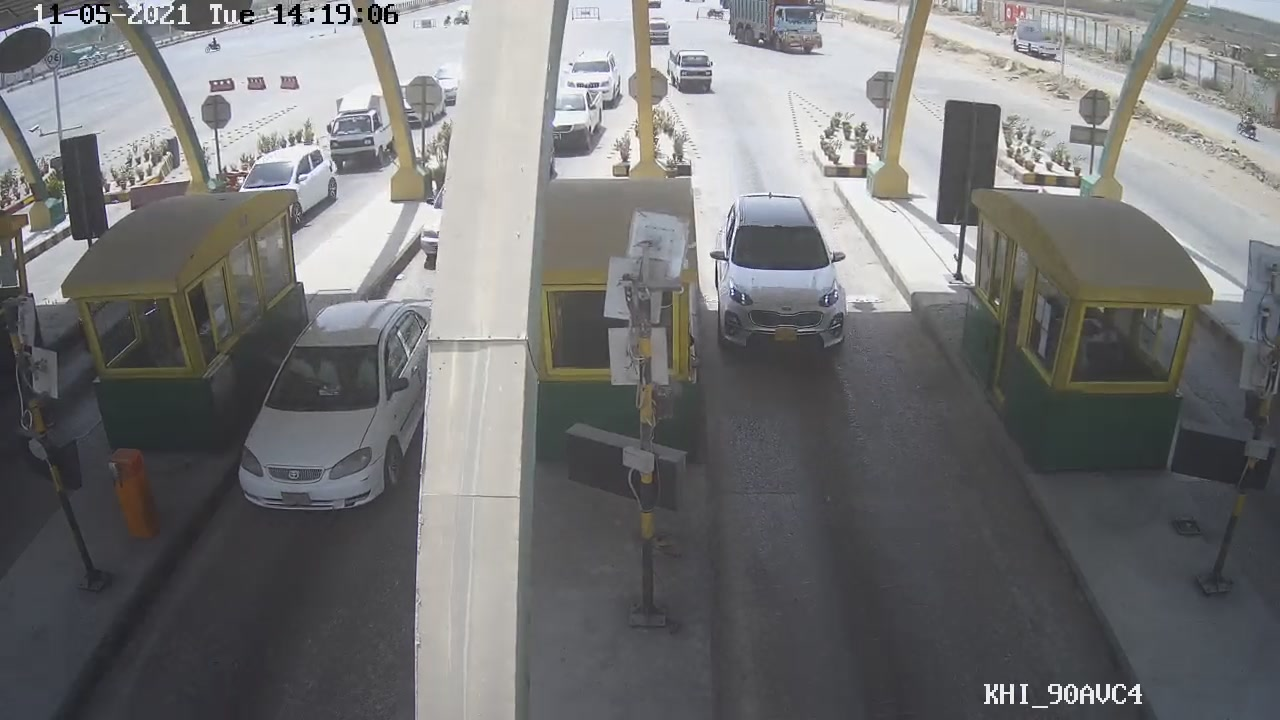F1: (704, 183, 861, 361)
